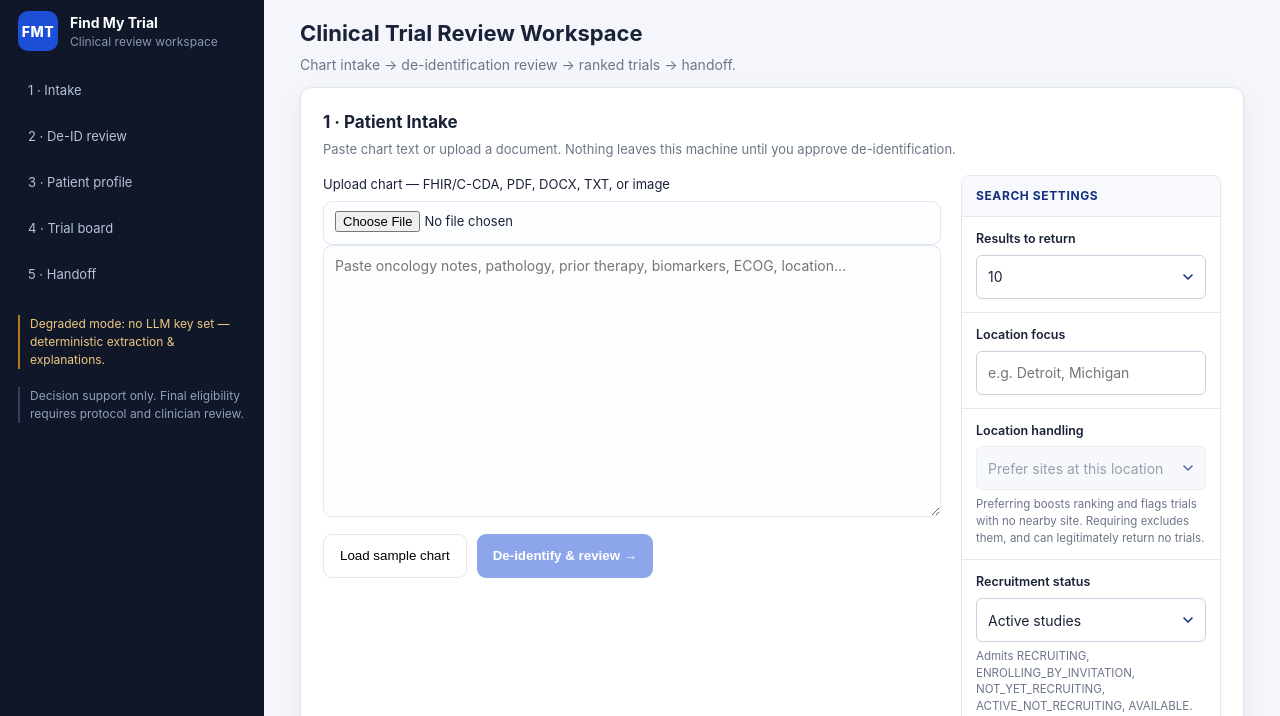
Test: de-identification approval gate › withdraws the approval badge when the text is edited afterwards
Expected: the heading "Clinical Trial Review Workspace" is shown, top-left (300, 20), bottom-right (643, 46)
Step 1. Replace the text in the text box named "chart text" with "chart" → (632, 380), box top-left (323, 244), bottom-right (941, 516)
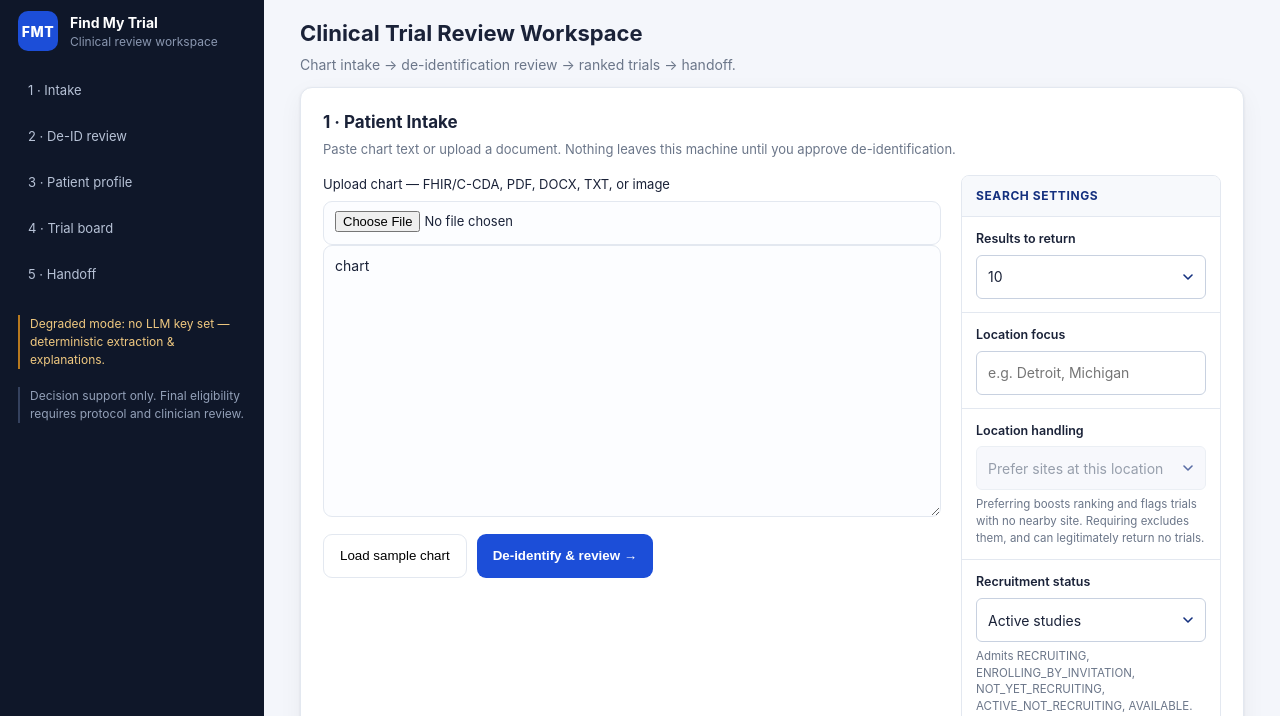
Step 2. Click the button "De-identify & review →" → click(565, 556), box top-left (477, 534), bottom-right (653, 578)
(page scrolled)
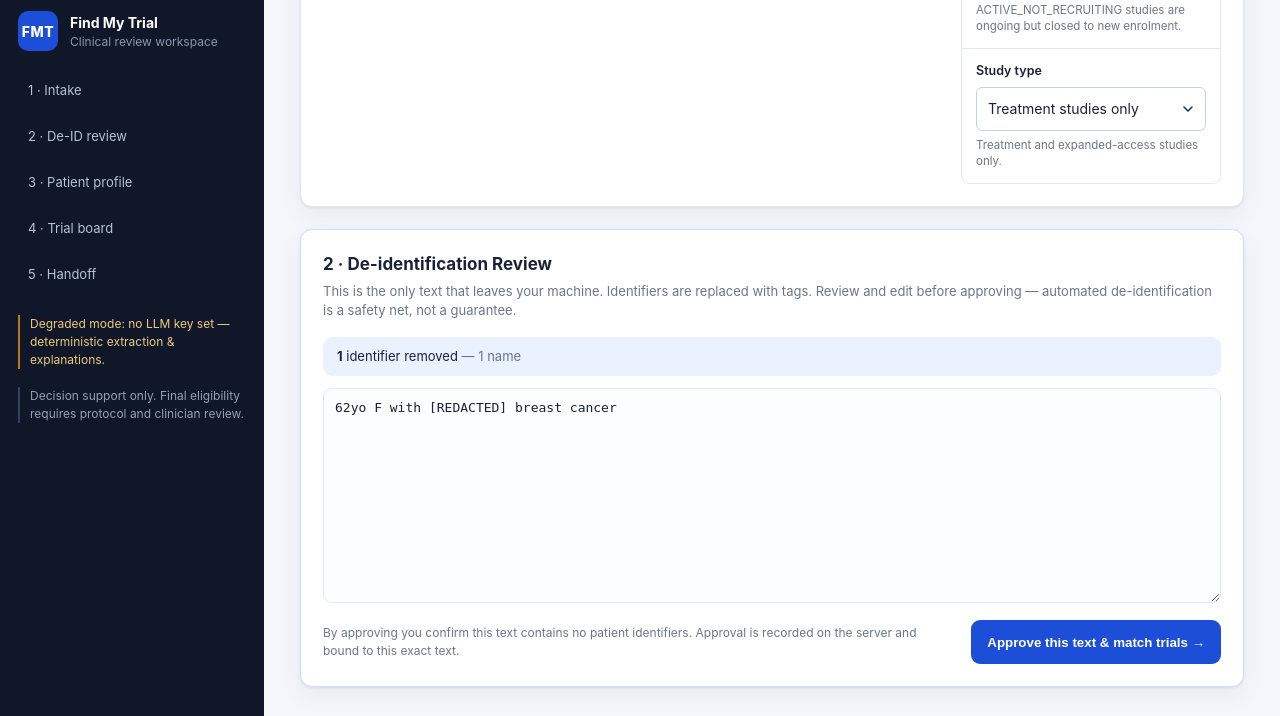
Step 3. Click the button "Approve this text & match trials →" → click(1096, 642), box top-left (971, 620), bottom-right (1221, 664)
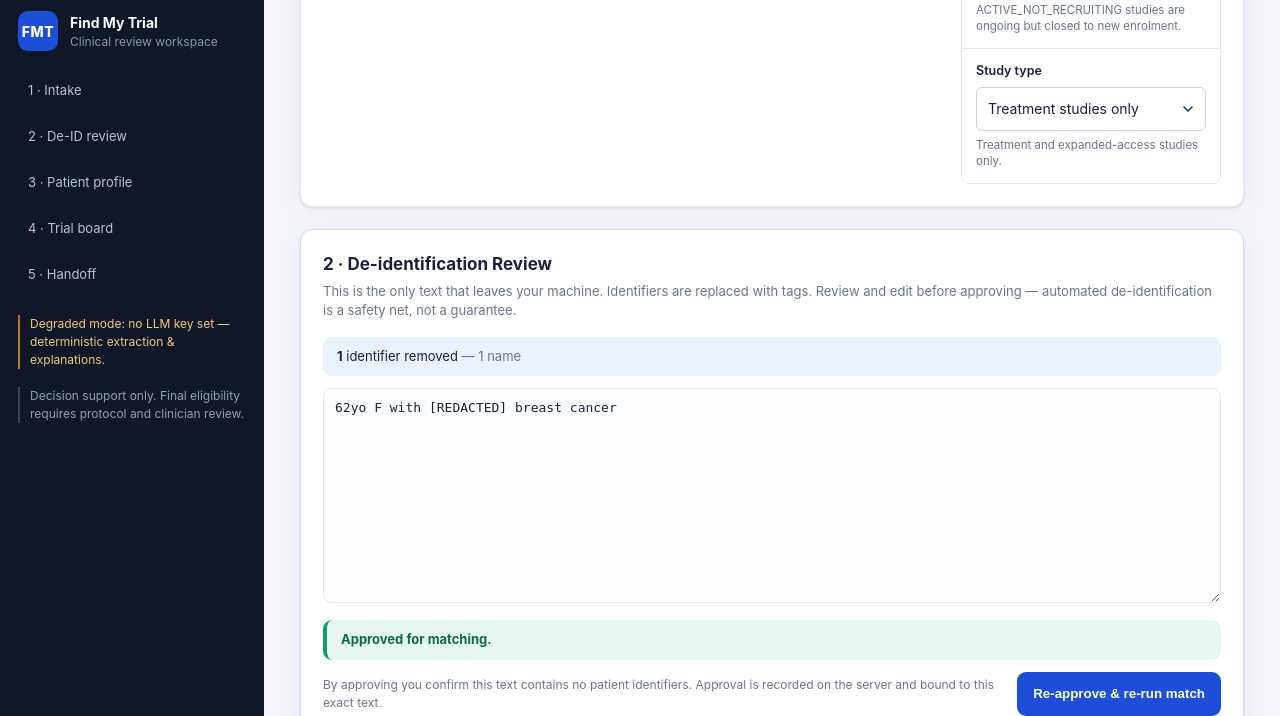
Expected: the text "Approved for matching." is shown, top-left (341, 631), bottom-right (492, 647)
Step 4. Replace the text in the text box named "de-identified text" with "changed" → (772, 496), box top-left (323, 388), bottom-right (1221, 603)
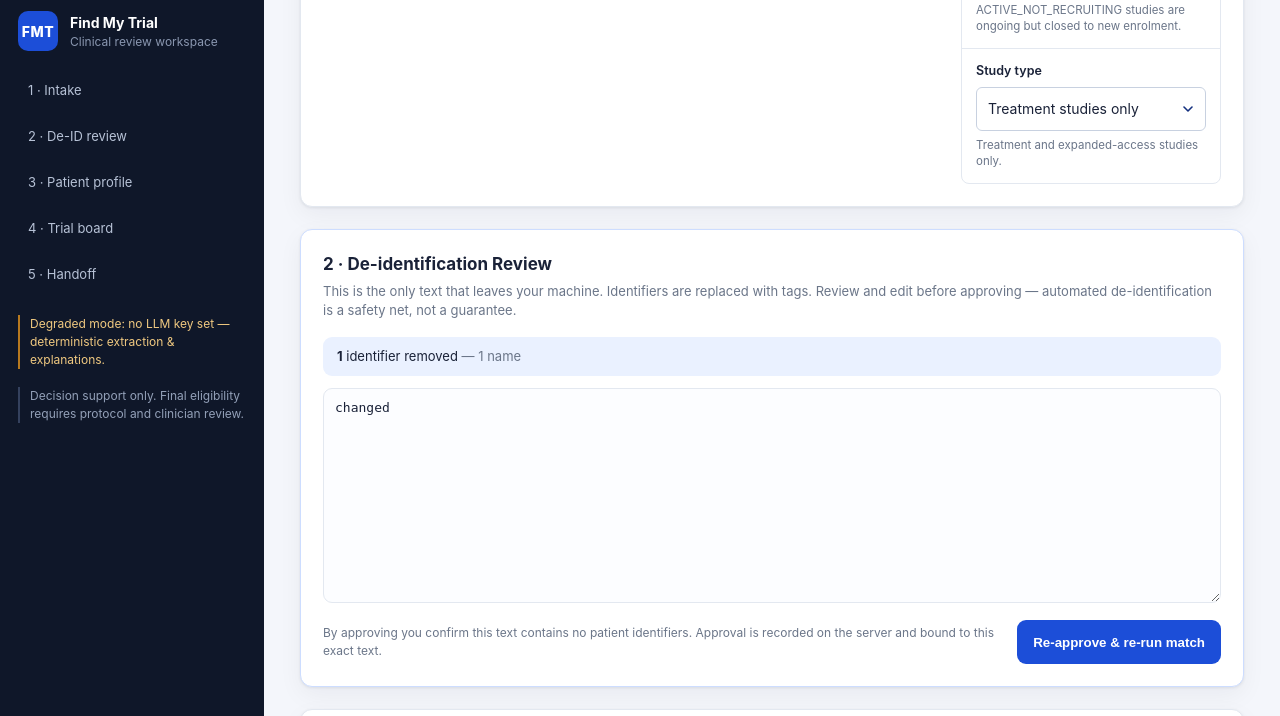
Expected: the text "Approved for matching" is gone
